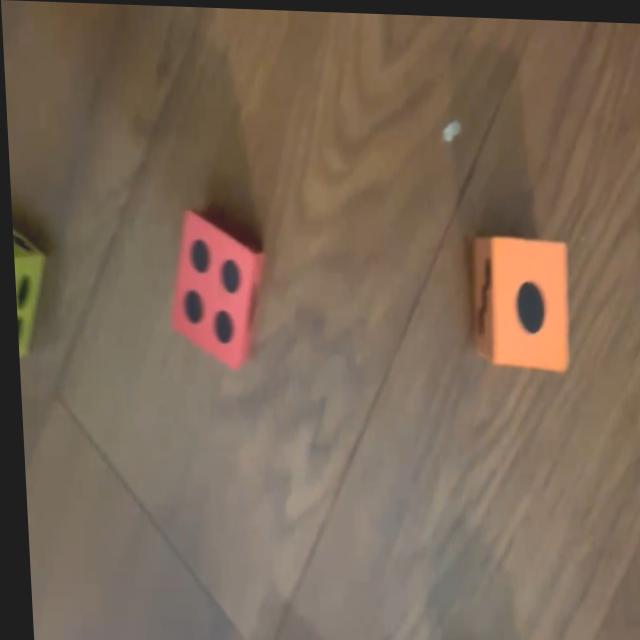cube: (164, 206, 265, 370)
